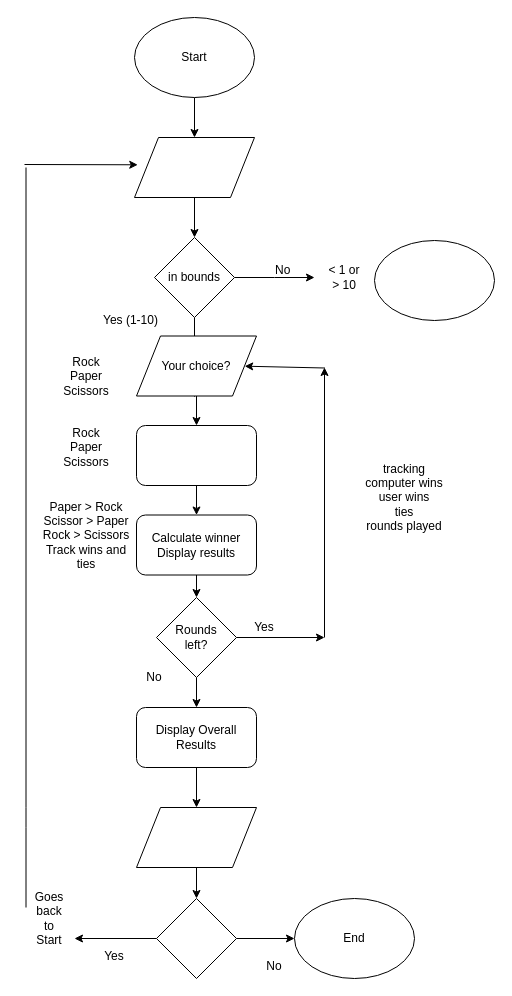
Some shapes in this 512 by 996 pixel diagram are drawn without their labels. The shapes that lost their labels are listed below. From the top down, each one's centre as x and y in pixels, then its label:
At pixel 194 167: "How many rounds?".
At pixel 434 280: "Quit".
At pixel 196 455: "Computer choice".
At pixel 196 837: "Play Again?".
